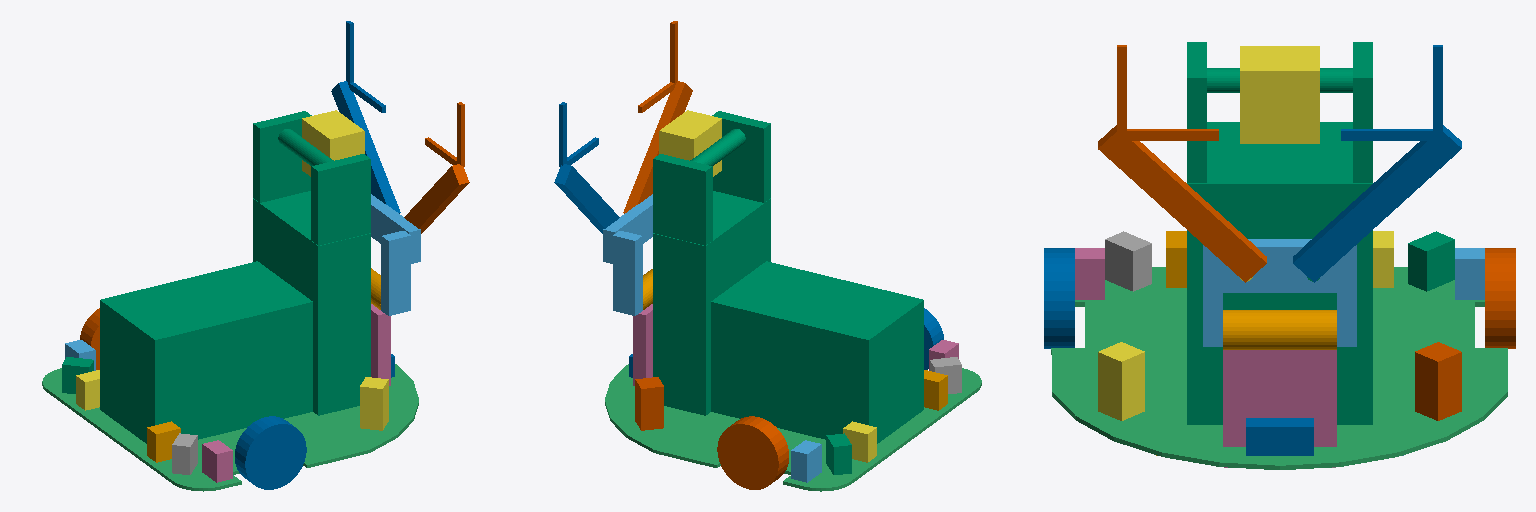
--- Render facts (derived) ---
3 views of the same robot in one strip: view 1: azimuth 30°, elevation 25°; view 2: azimuth 150°, elevation 25°; view 3: azimuth 270°, elevation 25° (orthographic).
Robot: pibot — 30 links, 29 joints (29 fixed); root link base_with_casters; default pose: all joints at 0.
Links seen in each view (by area): view 1: brainbox_with_battery, base_with_casters, right_wheel, grabber_mount, grabber_arm_left, grabber_arm_right, pi_camera, front_right_45deg_ir, grabber_to_base_1, rear_right_90deg_ir, rear_right_straight_ir, rear_right_45deg_ir (+4 smaller); view 2: brainbox_with_battery, base_with_casters, left_wheel, grabber_mount, grabber_arm_right, grabber_arm_left, pi_camera, front_left_45deg_ir, grabber_to_base_1, rear_left_90deg_ir, rear_left_straight_ir, rear_left_45deg_ir (+4 smaller); view 3: base_with_casters, brainbox_with_battery, grabber_to_base_1, grabber_arm_right, grabber_arm_left, pi_camera, grabber_mount, grabber_pole, front_right_45deg_ir, front_left_45deg_ir, left_wheel, right_wheel (+8 smaller).
Link boxes in pixels (x1,y1,x2,y2): brainbox_with_battery: (100, 111, 370, 443); base_with_casters: (42, 364, 418, 491); right_wheel: (235, 416, 306, 489); grabber_mount: (371, 194, 420, 315); grabber_arm_left: (331, 21, 400, 213); grabber_arm_right: (404, 102, 469, 233); pi_camera: (302, 110, 364, 176); front_right_45deg_ir: (360, 377, 388, 430); grabber_to_base_1: (371, 304, 390, 385); rear_right_90deg_ir: (202, 440, 232, 482); rear_right_straight_ir: (147, 421, 180, 462); rear_right_45deg_ir: (172, 433, 197, 474); brainbox_with_battery: (653, 111, 923, 443); base_with_casters: (605, 364, 981, 491); left_wheel: (717, 416, 788, 489); grabber_mount: (603, 194, 652, 315); grabber_arm_right: (623, 21, 692, 213); grabber_arm_left: (554, 102, 619, 233); pi_camera: (659, 110, 721, 176); front_left_45deg_ir: (635, 377, 663, 430); grabber_to_base_1: (633, 304, 652, 385); rear_left_90deg_ir: (791, 440, 821, 482); rear_left_straight_ir: (843, 421, 876, 462); rear_left_45deg_ir: (826, 433, 851, 474); base_with_casters: (1051, 267, 1507, 469); brainbox_with_battery: (1187, 42, 1372, 424); grabber_to_base_1: (1223, 350, 1336, 446); grabber_arm_right: (1098, 45, 1266, 282); grabber_arm_left: (1293, 45, 1461, 282); pi_camera: (1240, 46, 1319, 143); grabber_mount: (1203, 239, 1356, 346); grabber_pole: (1223, 310, 1336, 349); front_right_45deg_ir: (1098, 342, 1144, 420); front_left_45deg_ir: (1415, 342, 1461, 420); left_wheel: (1485, 248, 1515, 348); right_wheel: (1044, 248, 1074, 348).
Bounding box of the posed robot: 0.1451 × 0.14 × 0.1461 m (x, y, z).
1 mesh visuals loaded from 1 distinct referenced files (1 Collada DAE).

URDF robot description (pibot):
<?xml version="1.0" encoding="utf-8"?>
<!-- =================================================================================== -->
<!-- |    This document was autogenerated by xacro from [local-path]/catkin_ws/src/pibot_description/models/iti0201_robot_static/urdf/generate_pibot.urdf.xacro | -->
<!-- |    EDITING THIS FILE BY HAND IS NOT RECOMMENDED                                 | -->
<!-- =================================================================================== -->
<robot name="pibot" xmlns:xacro="http://www.ros.org/wiki/xacro">
  <gazebo>
    <plugin filename="libgazebo_ros_imu.so" name="imu_plugin">
      <alwaysOn>true</alwaysOn>
      <bodyName>base_with_casters</bodyName>
      <topicName>/robot/imu/raw</topicName>
      <gaussianNoise>0.0</gaussianNoise>
      <updateRate>10.0</updateRate>
    </plugin>
  </gazebo>
  <link name="base_with_casters">
    <inertial>
      <mass value="5"/>
      <inertia ixx="0.0061259375" ixy="0.0" ixz="0.0" iyy="0.0061259375" iyz="0.0" izz="0.01225"/>
    </inertial>
    <visual name="base_visual">
      <origin rpy="0 0 -1.57" xyz="-0.0615 0.098 0.005"/>
      <geometry>
        <mesh filename="model://iti0201_robot/meshes/pibot2_base.dae"/>
        <!--cylinder length="0.0015" radius="0.07"/-->
      </geometry>
    </visual>
    <collision name="base_collision">
      <origin rpy="0 0 -1.57" xyz="-0.0615 0.098 0.005"/>
      <geometry>
        <mesh filename="model://iti0201_robot/meshes/pibot2_base.dae"/>
        <!--cylinder length="0.0015" radius="0.07"/-->
      </geometry>
    </collision>
    <visual name="front_caster_visual">
      <origin rpy="0 0 0" xyz="0.04 0 0.005"/>
      <geometry>
        <sphere radius="0.005"/>
      </geometry>
    </visual>
    <collision name="front_caster_collision">
      <origin rpy="0 0 0" xyz="0.04 0 0.005"/>
      <geometry>
        <sphere radius="0.005"/>
      </geometry>
    </collision>
  </link>
  <gazebo reference="base_with_casters">
    <surface>
      <friction>
        <ode>
          <mu>0</mu>
          <mu2>0</mu2>
          <slip1>1.0</slip1>
          <slip2>1.0</slip2>
        </ode>
      </friction>
    </surface>
  </gazebo>
  <link name="wheel_joint">
    <inertial>
      <mass value="0.001"/>
      <inertia ixx="1.66666666667e-10" ixy="0.0" ixz="0.0" iyy="1.66666666667e-10" iyz="0.0" izz="1.66666666667e-10"/>
    </inertial>
    <visual name="joint_visual">
      <geometry>
        <box size="0.001 0.001 0.001"/>
      </geometry>
    </visual>
  </link>
  <joint name="Wheel_joint_to_base" type="fixed">
    <origin rpy="0 0 0" xyz="0 0 0.015"/>
    <child link="wheel_joint"/>
    <parent link="base_with_casters"/>
  </joint>
  <link name="brainbox_with_battery">
    <inertial>
      <mass value="0.001"/>
      <inertia ixx="8.83333333333e-07" ixy="0.0" ixz="0.0" iyy="8.59083333333e-07" iyz="0.0" izz="3.92416666667e-07"/>
    </inertial>
    <visual name="brainbox_visual">
      <origin rpy="0 0 0" xyz="-0.022 0 0.0294"/>
      <geometry>
        <box size="0.077 0.0468 0.0512"/>
      </geometry>
    </visual>
    <visual name="camera_stand_visual">
      <origin rpy="0 0 0" xyz="0.0294 0 0.043"/>
      <geometry>
        <box size="0.0255 0.0553 0.07896"/>
      </geometry>
    </visual>
    <visual name="camera_stand_right_wall_visual">
      <origin rpy="0 0 0" xyz="0.0294 -0.02467 0.1"/>
      <geometry>
        <box size="0.0255 0.006 0.0346"/>
      </geometry>
    </visual>
    <visual name="camera_stand_left_wall_visual">
      <origin rpy="0 0 0" xyz="0.0294 0.02467 0.1"/>
      <geometry>
        <box size="0.0255 0.006 0.0346"/>
      </geometry>
    </visual>
  </link>
  <joint name="brainbox_to_base" type="fixed">
    <origin rpy="0 0 0" xyz="0.0285 0 0.003"/>
    <child link="brainbox_with_battery"/>
    <parent link="base_with_casters"/>
  </joint>
  <link name="front_right_45deg_ir">
    <inertial>
      <mass value="0.001"/>
      <inertia ixx="4.16666666667e-08" ixy="0.0" ixz="0.0" iyy="1.66666666667e-08" iyz="0.0" izz="4.16666666667e-08"/>
    </inertial>
    <collision name="front_right_45deg_ir_collision">
      <geometry>
        <box size="0.01 0.01 0.02"/>
      </geometry>
    </collision>
    <visual name="front_right_45deg_ir_visual">
      <geometry>
        <box size="0.01 0.01 0.02"/>
      </geometry>
    </visual>
  </link>
  <joint name="front_right_45deg_ir_to_base" type="fixed">
    <origin rpy="0 0 -0.78535" xyz="0.0611 -0.0471 0.016"/>
    <child link="front_right_45deg_ir"/>
    <parent link="base_with_casters"/>
  </joint>
  <gazebo reference="front_right_45deg_ir">
    <sensor name="ir" type="ray">
      <ray>
        <scan>
          <horizontal>
            <samples>100</samples>
            <resolution>1</resolution>
          </horizontal>
        </scan>
        <range>
          <min>0.05</min>
          <max>2.00</max>
          <resolution>0.01</resolution>
        </range>
      </ray>
      <always_on>1</always_on>
      <update_rate>10</update_rate>
      <visualize>false</visualize>
      <plugin filename="libir_plugin.so" name="ir_plugin">
        <topic>ir/front_right</topic>
      </plugin>
    </sensor>
  </gazebo>
  <link name="front_middle_ir">
    <inertial>
      <mass value="0.001"/>
      <inertia ixx="1.66666666667e-08" ixy="0.0" ixz="0.0" iyy="4.16666666667e-08" iyz="0.0" izz="4.16666666667e-08"/>
    </inertial>
    <collision name="front_middle_ir_collision">
      <geometry>
        <box size="0.01 0.02 0.01"/>
      </geometry>
    </collision>
    <visual name="front_middle_ir_visual">
      <geometry>
        <box size="0.01 0.02 0.01"/>
      </geometry>
    </visual>
  </link>
  <joint name="front_middle_ir_to_base" type="fixed">
    <origin rpy="0 0 0" xyz="0.087812 0 0.011"/>
    <child link="front_middle_ir"/>
    <parent link="base_with_casters"/>
  </joint>
  <gazebo reference="front_middle_ir">
    <sensor name="ir" type="ray">
      <ray>
        <scan>
          <horizontal>
            <samples>100</samples>
            <resolution>1</resolution>
          </horizontal>
        </scan>
        <range>
          <min>0.05</min>
          <max>2.00</max>
          <resolution>0.01</resolution>
        </range>
      </ray>
      <always_on>1</always_on>
      <update_rate>10</update_rate>
      <visualize>false</visualize>
      <plugin filename="libir_plugin.so" name="ir_plugin">
        <topic>ir/front_middle</topic>
      </plugin>
    </sensor>
  </gazebo>
  <link name="front_left_45deg_ir">
    <inertial>
      <mass value="0.001"/>
      <inertia ixx="4.16666666667e-08" ixy="0.0" ixz="0.0" iyy="1.66666666667e-08" iyz="0.0" izz="4.16666666667e-08"/>
    </inertial>
    <collision name="front_left_45deg_ir_collisionl">
      <geometry>
        <box size="0.01 0.01 0.02"/>
      </geometry>
    </collision>
    <visual name="front_left_45deg_ir_visual">
      <geometry>
        <box size="0.01 0.01 0.02"/>
      </geometry>
    </visual>
  </link>
  <joint name="front_left_45deg_ir_to_base" type="fixed">
    <origin rpy="0 0 0.78535" xyz="0.0611151 0.0470558 0.016"/>
    <child link="front_left_45deg_ir"/>
    <parent link="base_with_casters"/>
  </joint>
  <gazebo reference="front_left_45deg_ir">
    <sensor name="ir" type="ray">
      <ray>
        <scan>
          <horizontal>
            <samples>100</samples>
            <resolution>1</resolution>
          </horizontal>
        </scan>
        <range>
          <min>0.05</min>
          <max>2.00</max>
          <resolution>0.01</resolution>
        </range>
      </ray>
      <always_on>1</always_on>
      <update_rate>10</update_rate>
      <visualize>false</visualize>
      <plugin filename="libir_plugin.so" name="ir_plugin">
        <topic>ir/front_left</topic>
      </plugin>
    </sensor>
  </gazebo>
  <link name="rear_right_90deg_ir">
    <inertial>
      <mass value="0.001"/>
      <inertia ixx="2.71875e-08" ixy="0.0" ixz="0.0" iyy="1.73333333333e-08" iyz="0.0" izz="2.05208333333e-08"/>
    </inertial>
    <collision name="collision">
      <geometry>
        <box size="0.012 0.008 0.0135"/>
      </geometry>
    </collision>
    <visual name="visual">
      <geometry>
        <box size="0.012 0.008 0.0135"/>
      </geometry>
    </visual>
  </link>
  <joint name="rear_right_90deg_ir_to_base" type="fixed">
    <origin rpy="0 0 -1.5707" xyz="-0.0215 -0.058 0.013"/>
    <child link="rear_right_90deg_ir"/>
    <parent link="base_with_casters"/>
  </joint>
  <gazebo reference="rear_right_90deg_ir">
    <sensor name="ir" type="ray">
      <ray>
        <scan>
          <horizontal>
            <samples>100</samples>
            <resolution>1</resolution>
          </horizontal>
        </scan>
        <range>
          <min>0.01</min>
          <max>0.40</max>
          <resolution>0.01</resolution>
        </range>
      </ray>
      <always_on>1</always_on>
      <update_rate>10</update_rate>
      <visualize>false</visualize>
      <plugin filename="libir_plugin.so" name="ir_plugin">
        <topic>ir/rear_right_90</topic>
      </plugin>
    </sensor>
  </gazebo>
  <link name="rear_right_45deg_ir">
    <inertial>
      <mass value="0.001"/>
      <inertia ixx="2.71875e-08" ixy="0.0" ixz="0.0" iyy="1.73333333333e-08" iyz="0.0" izz="2.05208333333e-08"/>
    </inertial>
    <collision name="collision">
      <geometry>
        <box size="0.012 0.008 0.0135"/>
      </geometry>
    </collision>
    <visual name="visual">
      <geometry>
        <box size="0.012 0.008 0.0135"/>
      </geometry>
    </visual>
  </link>
  <joint name="rear_right_45deg_ir_to_base" type="fixed">
    <origin rpy="0 0 -2.35605" xyz="-0.03 -0.045 0.013"/>
    <child link="rear_right_45deg_ir"/>
    <parent link="base_with_casters"/>
  </joint>
  <gazebo reference="rear_right_45deg_ir">
    <sensor name="ir" type="ray">
      <ray>
        <scan>
          <horizontal>
            <samples>100</samples>
            <resolution>1</resolution>
          </horizontal>
        </scan>
        <range>
          <min>0.01</min>
          <max>0.40</max>
          <resolution>0.01</resolution>
        </range>
      </ray>
      <always_on>1</always_on>
      <update_rate>10</update_rate>
      <visualize>false</visualize>
      <plugin filename="libir_plugin.so" name="ir_plugin">
        <topic>ir/rear_right_45</topic>
      </plugin>
    </sensor>
  </gazebo>
  <link name="rear_right_straight_ir">
    <inertial>
      <mass value="0.001"/>
      <inertia ixx="2.71875e-08" ixy="0.0" ixz="0.0" iyy="1.73333333333e-08" iyz="0.0" izz="2.05208333333e-08"/>
    </inertial>
    <collision name="collision">
      <geometry>
        <box size="0.012 0.008 0.0135"/>
      </geometry>
    </collision>
    <visual name="visual">
      <geometry>
        <box size="0.012 0.008 0.0135"/>
      </geometry>
    </visual>
  </link>
  <joint name="rear_right_straight_ir_to_base" type="fixed">
    <origin rpy="0 0 -3.14" xyz="-0.0315 -0.03 0.013"/>
    <child link="rear_right_straight_ir"/>
    <parent link="base_with_casters"/>
  </joint>
  <gazebo reference="rear_right_straight_ir">
    <sensor name="ir" type="ray">
      <ray>
        <scan>
          <horizontal>
            <samples>100</samples>
            <resolution>1</resolution>
          </horizontal>
        </scan>
        <range>
          <min>0.01</min>
          <max>0.40</max>
          <resolution>0.01</resolution>
        </range>
      </ray>
      <always_on>1</always_on>
      <update_rate>10</update_rate>
      <visualize>false</visualize>
      <plugin filename="libir_plugin.so" name="ir_plugin">
        <topic>ir/rear_right_0</topic>
      </plugin>
    </sensor>
  </gazebo>
  <link name="rear_left_90deg_ir">
    <inertial>
      <mass value="0.001"/>
      <inertia ixx="2.71875e-08" ixy="0.0" ixz="0.0" iyy="1.73333333333e-08" iyz="0.0" izz="2.05208333333e-08"/>
    </inertial>
    <collision name="collision">
      <geometry>
        <box size="0.012 0.008 0.0135"/>
      </geometry>
    </collision>
    <visual name="visual">
      <geometry>
        <box size="0.012 0.008 0.0135"/>
      </geometry>
    </visual>
  </link>
  <joint name="rear_left_90deg_ir_to_base" type="fixed">
    <origin rpy="0 0 1.5707" xyz="-0.0215 0.058 0.013"/>
    <child link="rear_left_90deg_ir"/>
    <parent link="base_with_casters"/>
  </joint>
  <gazebo reference="rear_left_90deg_ir">
    <sensor name="ir" type="ray">
      <ray>
        <scan>
          <horizontal>
            <samples>100</samples>
            <resolution>1</resolution>
          </horizontal>
        </scan>
        <range>
          <min>0.01</min>
          <max>0.40</max>
          <resolution>0.01</resolution>
        </range>
      </ray>
      <always_on>1</always_on>
      <update_rate>10</update_rate>
      <visualize>false</visualize>
      <plugin filename="libir_plugin.so" name="ir_plugin">
        <topic>ir/rear_left_90</topic>
      </plugin>
    </sensor>
  </gazebo>
  <link name="rear_left_45deg_ir">
    <inertial>
      <mass value="0.001"/>
      <inertia ixx="2.71875e-08" ixy="0.0" ixz="0.0" iyy="1.73333333333e-08" iyz="0.0" izz="2.05208333333e-08"/>
    </inertial>
    <collision name="collision">
      <geometry>
        <box size="0.012 0.008 0.0135"/>
      </geometry>
    </collision>
    <visual name="visual">
      <geometry>
        <box size="0.012 0.008 0.0135"/>
      </geometry>
    </visual>
  </link>
  <joint name="rear_left_45deg_ir_to_base" type="fixed">
    <origin rpy="0 0 2.35605" xyz="-0.03 0.045 0.013"/>
    <child link="rear_left_45deg_ir"/>
    <parent link="base_with_casters"/>
  </joint>
  <gazebo reference="rear_left_45deg_ir">
    <sensor name="ir" type="ray">
      <ray>
        <scan>
          <horizontal>
            <samples>100</samples>
            <resolution>1</resolution>
          </horizontal>
        </scan>
        <range>
          <min>0.01</min>
          <max>0.40</max>
          <resolution>0.01</resolution>
        </range>
      </ray>
      <always_on>1</always_on>
      <update_rate>10</update_rate>
      <visualize>false</visualize>
      <plugin filename="libir_plugin.so" name="ir_plugin">
        <topic>ir/rear_left_45</topic>
      </plugin>
    </sensor>
  </gazebo>
  <link name="rear_left_straight_ir">
    <inertial>
      <mass value="0.001"/>
      <inertia ixx="2.71875e-08" ixy="0.0" ixz="0.0" iyy="1.73333333333e-08" iyz="0.0" izz="2.05208333333e-08"/>
    </inertial>
    <collision name="collision">
      <geometry>
        <box size="0.012 0.008 0.0135"/>
      </geometry>
    </collision>
    <visual name="visual">
      <geometry>
        <box size="0.012 0.008 0.0135"/>
      </geometry>
    </visual>
  </link>
  <joint name="rear_left_straight_ir_to_base" type="fixed">
    <origin rpy="0 0 3.14" xyz="-0.0315 0.03 0.013"/>
    <child link="rear_left_straight_ir"/>
    <parent link="base_with_casters"/>
  </joint>
  <gazebo reference="rear_left_straight_ir">
    <sensor name="ir" type="ray">
      <pose>0 0 0 0 -0 1.571</pose>
      <ray>
        <scan>
          <horizontal>
            <samples>100</samples>
            <resolution>1</resolution>
          </horizontal>
        </scan>
        <range>
          <min>0.01</min>
          <max>0.40</max>
          <resolution>0.01</resolution>
        </range>
      </ray>
      <always_on>1</always_on>
      <update_rate>10</update_rate>
      <visualize>false</visualize>
      <plugin filename="libir_plugin.so" name="ir_plugin">
        <topic>ir/rear_left_0</topic>
      </plugin>
    </sensor>
  </gazebo>
  <link name="right_side_first_line_sensor_from_middle">
    <inertial>
      <mass value="0.001"/>
      <inertia ixx="1.54166666667e-09" ixy="0.0" ixz="0.0" iyy="1.20833333333e-09" iyz="0.0" izz="7.08333333333e-10"/>
    </inertial>
    <collision name="collision">
      <geometry>
        <box size="0.0015 0.0035 0.0025"/>
      </geometry>
    </collision>
    <visual name="visual">
      <geometry>
        <box size="0.0015 0.0035 0.0025"/>
      </geometry>
    </visual>
  </link>
  <joint name="right_side_first_line_sensor_from_middle_to_base" type="fixed">
    <origin rpy="0 1.5707 0" xyz="0.0935 -0.005 0.0044"/>
    <child link="right_side_first_line_sensor_from_middle"/>
    <parent link="base_with_casters"/>
  </joint>
  <gazebo reference="right_side_first_line_sensor_from_middle">
    <sensor name="line_sensor_camera1" type="camera">
      <update_rate>10</update_rate>
      <camera name="head">
        <horizontal_fov>0.4</horizontal_fov>
        <image>
          <width>48</width>
          <height>48</height>
          <format>L8</format>
        </image>
        <clip>
          <near>0.001</near>
          <far>0.031</far>
        </clip>
      </camera>
      <always_on>1</always_on>
      <update_rate>10</update_rate>
      <visualize>false</visualize>
      <plugin filename="libgazebo_ros_camera.so" name="camera_controller">
        <alwaysOn>true</alwaysOn>
        <updateRate>10</updateRate>
        <cameraName>/robot/line_sensor/right_first</cameraName>
        <imageTopicName>image_raw</imageTopicName>
        <cameraInfoTopicName>camera_info</cameraInfoTopicName>
        <frameName>camera_link</frameName>
        <hackBaseline>0.07</hackBaseline>
        <distortionK1>0.0</distortionK1>
        <distortionK2>0.0</distortionK2>
        <distortionK3>0.0</distortionK3>
        <distortionT1>0.0</distortionT1>
        <distortionT2>0.0</distortionT2>
      </plugin>
    </sensor>
  </gazebo>
  <link name="left_side_first_line_sensor_from_middle">
    <inertial>
      <mass value="0.001"/>
      <inertia ixx="1.54166666667e-09" ixy="0.0" ixz="0.0" iyy="1.20833333333e-09" iyz="0.0" izz="7.08333333333e-10"/>
    </inertial>
    <collision name="collision">
      <geometry>
        <box size="0.0015 0.0035 0.0025"/>
      </geometry>
    </collision>
    <visual name="visual">
      <geometry>
        <box size="0.0015 0.0035 0.0025"/>
      </geometry>
    </visual>
  </link>
  <joint name="left_side_first_line_sensor_from_middle_to_base" type="fixed">
    <origin rpy="0 1.5707 0" xyz="0.0935 0.005 0.0044"/>
    <child link="left_side_first_line_sensor_from_middle"/>
    <parent link="base_with_casters"/>
  </joint>
  <gazebo reference="left_side_first_line_sensor_from_middle">
    <sensor name="line_sensor_camera2" type="camera">
      <update_rate>10</update_rate>
      <pose>0 0 0 0 1.571 0</pose>
      <camera name="head">
        <horizontal_fov>0.4</horizontal_fov>
        <image>
          <width>48</width>
          <height>48</height>
          <format>L8</format>
        </image>
        <clip>
          <near>0.001</near>
          <far>0.031</far>
        </clip>
      </camera>
      <always_on>1</always_on>
      <update_rate>10</update_rate>
      <visualize>false</visualize>
      <plugin filename="libgazebo_ros_camera.so" name="camera_controller">
        <alwaysOn>true</alwaysOn>
        <updateRate>10</updateRate>
        <cameraName>/robot/line_sensor/left_first</cameraName>
        <imageTopicName>image_raw</imageTopicName>
        <cameraInfoTopicName>camera_info</cameraInfoTopicName>
        <frameName>camera_link</frameName>
        <hackBaseline>0.07</hackBaseline>
        <distortionK1>0.0</distortionK1>
        <distortionK2>0.0</distortionK2>
        <distortionK3>0.0</distortionK3>
        <distortionT1>0.0</distortionT1>
        <distortionT2>0.0</distortionT2>
      </plugin>
    </sensor>
  </gazebo>
  <link name="right_side_second_line_sensor_from_middle">
    <inertial>
      <mass value="0.001"/>
      <inertia ixx="1.54166666667e-09" ixy="0.0" ixz="0.0" iyy="1.20833333333e-09" iyz="0.0" izz="7.08333333333e-10"/>
    </inertial>
    <collision name="collision">
      <geometry>
        <box size="0.0015 0.0035 0.0025"/>
      </geometry>
    </collision>
    <visual name="visual">
      <geometry>
        <box size="0.0015 0.0035 0.0025"/>
      </geometry>
    </visual>
  </link>
  <joint name="right_side_second_line_sensor_from_middle_to_base" type="fixed">
    <origin rpy="0 1.5707 0" xyz="0.0935 -0.015 0.0044"/>
    <child link="right_side_second_line_sensor_from_middle"/>
    <parent link="base_with_casters"/>
  </joint>
  <gazebo reference="right_side_second_line_sensor_from_middle">
    <sensor name="line_sensor_camera3" type="camera">
      <update_rate>10</update_rate>
      <pose>0 0 0 0 1.571 0</pose>
      <camera name="head">
        <horizontal_fov>0.4</horizontal_fov>
        <image>
          <width>48</width>
          <height>48</height>
          <format>L8</format>
        </image>
        <clip>
          <near>0.001</near>
          <far>0.031</far>
        </clip>
      </camera>
      <always_on>1</always_on>
      <update_rate>10</update_rate>
      <visualize>false</visualize>
      <plugin filename="libgazebo_ros_camera.so" name="camera_controller">
        <alwaysOn>true</alwaysOn>
        <updateRate>10</updateRate>
        <cameraName>/robot/line_sensor/right_second</cameraName>
        <imageTopicName>image_raw</imageTopicName>
        <cameraInfoTopicName>camera_info</cameraInfoTopicName>
        <frameName>camera_link</frameName>
        <hackBaseline>0.07</hackBaseline>
        <distortionK1>0.0</distortionK1>
        <distortionK2>0.0</distortionK2>
        <distortionK3>0.0</distortionK3>
        <distortionT1>0.0</distortionT1>
        <distortionT2>0.0</distortionT2>
      </plugin>
    </sensor>
  </gazebo>
  <link name="left_side_second_line_sensor_from_middle">
    <inertial>
      <mass value="0.001"/>
      <inertia ixx="1.54166666667e-09" ixy="0.0" ixz="0.0" iyy="1.20833333333e-09" iyz="0.0" izz="7.08333333333e-10"/>
    </inertial>
    <collision name="collision">
      <geometry>
        <box size="0.0015 0.0035 0.0025"/>
      </geometry>
    </collision>
    <visual name="visual">
      <geometry>
        <box size="0.0015 0.0035 0.0025"/>
      </geometry>
    </visual>
  </link>
  <joint name="left_side_second_line_sensor_from_middle_to_base" type="fixed">
    <origin rpy="0 1.5707 0" xyz="0.0935 0.015 0.0044"/>
    <child link="left_side_second_line_sensor_from_middle"/>
    <parent link="base_with_casters"/>
  </joint>
  <gazebo reference="left_side_second_line_sensor_from_middle">
    <sensor name="line_sensor_camera4" type="camera">
      <update_rate>10</update_rate>
      <pose>0 0 0 0 1.571 0</pose>
      <camera name="head">
        <horizontal_fov>0.4</horizontal_fov>
        <image>
          <width>48</width>
          <height>48</height>
          <format>L8</format>
        </image>
        <clip>
          <near>0.001</near>
          <far>0.031</far>
        </clip>
      </camera>
      <always_on>1</always_on>
      <update_rate>10</update_rate>
      <visualize>false</visualize>
      <plugin filename="libgazebo_ros_camera.so" name="camera_controller">
        <alwaysOn>true</alwaysOn>
        <updateRate>10</updateRate>
        <cameraName>/robot/line_sensor/left_second</cameraName>
        <imageTopicName>image_raw</imageTopicName>
        <cameraInfoTopicName>camera_info</cameraInfoTopicName>
        <frameName>camera_link</frameName>
        <hackBaseline>0.07</hackBaseline>
        <distortionK1>0.0</distortionK1>
        <distortionK2>0.0</distortionK2>
        <distortionK3>0.0</distortionK3>
        <distortionT1>0.0</distortionT1>
        <distortionT2>0.0</distortionT2>
      </plugin>
    </sensor>
  </gazebo>
  <link name="right_side_third_line_sensor_from_middle">
    <inertial>
      <mass value="0.001"/>
      <inertia ixx="1.54166666667e-09" ixy="0.0" ixz="0.0" iyy="1.20833333333e-09" iyz="0.0" izz="7.08333333333e-10"/>
    </inertial>
    <collision name="collision">
      <geometry>
        <box size="0.0015 0.0035 0.0025"/>
      </geometry>
    </collision>
    <visual name="visual">
      <geometry>
        <box size="0.0015 0.0035 0.0025"/>
      </geometry>
    </visual>
  </link>
  <joint name="right_side_third_line_sensor_from_middle_to_base" type="fixed">
    <origin rpy="0 1.5707 0" xyz="0.0855 -0.035 0.0044"/>
    <child link="right_side_third_line_sensor_from_middle"/>
    <parent link="base_with_casters"/>
  </joint>
  <gazebo reference="right_side_third_line_sensor_from_middle">
    <sensor name="line_sensor_camera5" type="camera">
      <update_rate>10</update_rate>
      <pose>0 0 0 0 1.571 0</pose>
      <camera name="head">
        <horizontal_fov>0.4</horizontal_fov>
        <image>
          <width>48</width>
          <height>48</height>
          <format>L8</format>
        </image>
        <clip>
          <near>0.001</near>
          <far>0.031</far>
        </clip>
      </camera>
      <always_on>1</always_on>
      <update_rate>10</update_rate>
      <visualize>false</visualize>
      <plugin filename="libgazebo_ros_camera.so" name="camera_controller">
        <alwaysOn>true</alwaysOn>
        <updateRate>10</updateRate>
        <cameraName>/robot/line_sensor/right_third</cameraName>
        <imageTopicName>image_raw</imageTopicName>
        <cameraInfoTopicName>camera_info</cameraInfoTopicName>
        <frameName>camera_link</frameName>
        <hackBaseline>0.07</hackBaseline>
        <distortionK1>0.0</distortionK1>
        <distortionK2>0.0</distortionK2>
        <distortionK3>0.0</distortionK3>
        <distortionT1>0.0</distortionT1>
        <distortionT2>0.0</distortionT2>
      </plugin>
    </sensor>
  </gazebo>
  <link name="left_side_third_line_sensor_from_middle">
    <inertial>
      <mass value="0.001"/>
      <inertia ixx="1.54166666667e-09" ixy="0.0" ixz="0.0" iyy="1.20833333333e-09" iyz="0.0" izz="7.08333333333e-10"/>
    </inertial>
    <collision name="collision">
      <geometry>
        <box size="0.0015 0.0035 0.0025"/>
      </geometry>
    </collision>
    <visual name="visual">
      <geometry>
        <box size="0.0015 0.0035 0.0025"/>
      </geometry>
    </visual>
  </link>
  <joint name="left_side_third_line_sensor_from_middle_to_base" type="fixed">
    <origin rpy="0 1.5707 0" xyz="0.0855 0.035 0.0044"/>
    <child link="left_side_third_line_sensor_from_middle"/>
    <parent link="base_with_casters"/>
  </joint>
  <gazebo reference="left_side_third_line_sensor_from_middle">
    <sensor name="line_sensor_camera6" type="camera">
      <update_rate>10</update_rate>
      <pose>0 0 0 0 1.571 0</pose>
      <camera name="head">
        <horizontal_fov>0.4</horizontal_fov>
        <image>
          <width>48</width>
          <height>48</height>
          <format>L8</format>
        </image>
        <clip>
          <near>0.001</near>
          <far>0.031</far>
        </clip>
      </camera>
      <always_on>1</always_on>
      <update_rate>10</update_rate>
      <visualize>false</visualize>
      <plugin filename="libgazebo_ros_camera.so" name="camera_controller">
        <alwaysOn>true</alwaysOn>
        <updateRate>10</updateRate>
        <cameraName>/robot/line_sensor/left_third</cameraName>
        <imageTopicName>image_raw</imageTopicName>
        <cameraInfoTopicName>camera_info</cameraInfoTopicName>
        <frameName>camera_link</frameName>
        <hackBaseline>0.07</hackBaseline>
        <distortionK1>0.0</distortionK1>
        <distortionK2>0.0</distortionK2>
        <distortionK3>0.0</distortionK3>
        <distortionT1>0.0</distortionT1>
        <distortionT2>0.0</distortionT2>
      </plugin>
    </sensor>
  </gazebo>
  <link name="camera_stand_pole">
    <inertial>
      <mass value="0.001"/>
      <inertia ixx="1.60253073501e-07" ixy="0.0" ixz="0.0" iyy="1.60253073501e-07" iyz="0.0" izz="7.303842e-09"/>
    </inertial>
    <collision name="collision">
      <geometry>
        <cylinder length="0.0433499" radius="0.003822"/>
      </geometry>
    </collision>
    <visual name="visual">
      <geometry>
        <cylinder length="0.0433499" radius="0.003822"/>
      </geometry>
    </visual>
  </link>
  <joint name="camera_stand_pole_to_base" type="fixed">
    <origin rpy="0 1.5707 1.5707" xyz="0.05790475 0 0.1135341"/>
    <child link="camera_stand_pole"/>
    <parent link="base_with_casters"/>
  </joint>
  <!--REVOLUTE CAMERA???, uncomment this and delete the above
    <joint type="revolute" name="camera_stand_pole_to_base">
      <pose>0 0 0 0 0 0</pose>
      <child>camera_stand_pole</child>
      <parent>base</parent>
      <axis>
        <xyz>0 1 0</xyz>
      </axis>
    </joint>
    -->
  <link name="pi_camera">
    <inertial>
      <mass value="0.001"/>
      <inertia ixx="7.20833333333e-08" ixy="0.0" ixz="0.0" iyy="7.20833333333e-08" iyz="0.0" izz="9.6e-08"/>
    </inertial>
    <collision name="collision">
      <geometry>
        <box size="0.017 0.024 0.024"/>
      </geometry>
    </collision>
    <visual name="visual">
      <geometry>
        <box size="0.017 0.024 0.024"/>
      </geometry>
    </visual>
  </link>
  <joint name="pi_camera_to_pole" type="fixed">
    <origin rpy="0 0 -1.5707" xyz="0 -0.0104 0"/>
    <child link="pi_camera"/>
    <parent link="camera_stand_pole"/>
  </joint>
  <gazebo reference="pi_camera">
    <sensor name="camera" type="camera">
      <update_rate>10</update_rate>
      <always_on>1</always_on>
      <visualize>false</visualize>
      <camera name="head">
        <horizontal_fov>1.3962634</horizontal_fov>
        <image>
          <width>800</width>
          <height>800</height>
          <format>R8G8B8</format>
        </image>
        <clip>
          <near>0.02</near>
          <far>300</far>
        </clip>
      </camera>
      <plugin filename="libgazebo_ros_camera.so" name="camera_controller">
        <alwaysOn>true</alwaysOn>
        <updateRate>10</updateRate>
        <cameraName>robot/camera</cameraName>
        <imageTopicName>image_raw</imageTopicName>
        <cameraInfoTopicName>camera_info</cameraInfoTopicName>
        <frameName>camera_link</frameName>
        <hackBaseline>0.07</hackBaseline>
        <distortionK1>0.0</distortionK1>
        <distortionK2>0.0</distortionK2>
        <distortionK3>0.0</distortionK3>
        <distortionT1>0.0</distortionT1>
        <distortionT2>0.0</distortionT2>
      </plugin>
    </sensor>
  </gazebo>
  <link name="right_wheel">
    <inertial>
      <mass value="1"/>
      <inertia ixx="6.3e-05" ixy="0.0" ixz="0.0" iyy="6.3e-05" iyz="0.0" izz="0.0001125"/>
    </inertial>
    <visual name="right_wheel_visual">
      <origin rpy="0 0 0" xyz="0 0 0"/>
      <geometry>
        <cylinder length="0.009" radius="0.015"/>
      </geometry>
    </visual>
    <collision name="right_wheel_collision">
      <origin rpy="0 0 0" xyz="0 0 0"/>
      <geometry>
        <cylinder length="0.009" radius="0.015"/>
      </geometry>
    </collision>
  </link>
  <gazebo reference="right_wheel">
    <mu1 value="1.0"/>
    <mu2 value="1.0"/>
    <kp value="10000000.0"/>
    <kd value="1.0"/>
    <fdir1 value="1 0 0"/>
  </gazebo>
  <joint name="right_wheel_hinge" type="fixed">
    <origin rpy="0 1.5707 1.5707" xyz="0 -0.0655 0"/>
    <child link="right_wheel"/>
    <parent link="wheel_joint"/>
    <!--proovisin erinevaid väärtusi siia "limit" alla, midagi ei muutunud -->
    <limit effort="10.0" velocity="1.0"/>
    <axis rpy="0 0 0" xyz="0 0 1"/>
  </joint>
  <link name="left_wheel">
    <inertial>
      <mass value="1"/>
      <inertia ixx="6.3e-05" ixy="0.0" ixz="0.0" iyy="6.3e-05" iyz="0.0" izz="0.0001125"/>
    </inertial>
    <visual name="left_wheel_visual">
      <origin rpy="0 0 0" xyz="0 0 0"/>
      <geometry>
        <cylinder length="0.009" radius="0.015"/>
      </geometry>
    </visual>
    <collision name="left_wheel_collision">
      <origin rpy="0 0 0" xyz="0 0 0"/>
      <geometry>
        <cylinder length="0.009" radius="0.015"/>
      </geometry>
    </collision>
  </link>
  <gazebo reference="left_wheel">
    <mu1 value="1.0"/>
    <mu2 value="1.0"/>
    <kp value="10000000.0"/>
    <kd value="1.0"/>
    <fdir1 value="1 0 0"/>
  </gazebo>
  <joint name="left_wheel_hinge" type="fixed">
    <origin rpy="0 1.5707 1.5707" xyz="0 0.0655 0"/>
    <child link="left_wheel"/>
    <parent link="wheel_joint"/>
    <limit effort="10.0" velocity="1.0"/>
    <axis rpy="0 0 0" xyz="0 0 1"/>
  </joint>
  <link name="grabber_to_base_1">
    <inertial>
      <mass value="0.001"/>
      <inertia ixx="0.0000337" ixy="0.0" ixz="0.0" iyy="0.0000493" iyz="0.0" izz="0.0000248"/>
    </inertial>
    <collision name="arm_to_base_col">
      <geometry>
        <box size=".006 .034 .03455"/>
      </geometry>
    </collision>
    <visual name="arm_to_base_vis">
      <geometry>
        <box size=".006 .034 .03455"/>
      </geometry>
    </visual>
  </link>
  <joint name="grabber_to_base_joint_1" type="fixed">
    <origin rpy="0 0 0" xyz="0.0835 0 0.0235"/>
    <dynamics damping="1"/>
    <child link="grabber_to_base_1"/>
    <parent link="base_with_casters"/>
  </joint>
  <link name="pole_rotation_reference">
    <inertial>
      <mass value="0.001"/>
      <inertia ixx="0.0000337" ixy="0.0" ixz="0.0" iyy="0.0000493" iyz="0.0" izz="0.0000248"/>
    </inertial>
    <collision name="pole_rotation_reference_col">
      <geometry>
        <box size=".001 .001 .001"/>
      </geometry>
    </collision>
    <visual name="pole_rotation_reference_vis">
      <geometry>
        <box size=".001 .001 .001"/>
      </geometry>
    </visual>
  </link>
  <joint name="pole_rotation_reference_to_base" type="fixed">
    <origin rpy="0 1.5707 1.5707" xyz="0.0875 0 0.04555"/>
    <dynamics damping="1"/>
    <child link="pole_rotation_reference"/>
    <parent link="base_with_casters"/>
  </joint>
  <link name="grabber_pole">
    <inertial>
      <mass value="0.001"/>
      <inertia ixx="0.0000337" ixy="0.0" ixz="0.0" iyy="0.0000493" iyz="0.0" izz="0.0000248"/>
    </inertial>
    <collision name="the_pole_col">
      <geometry>
        <cylinder length=".034" radius=".006"/>
      </geometry>
    </collision>
    <visual name="the_pole_vis">
      <geometry>
        <cylinder length=".034" radius=".006"/>
      </geometry>
    </visual>
  </link>
  <!-- TODO -->
  <joint name="grabber_pole" type="fixed">
    <origin rpy="0 0 0" xyz="0 0 0"/>
    <child link="grabber_pole"/>
    <dynamics damping="1"/>
    <parent link="pole_rotation_reference"/>
    <limit effort="10.0" lower="0.0" upper="1.5" velocity="1.0"/>
    <axis xyz="0 0 1"/>
  </joint>
  <link name="grabber_mount">
    <collision name="arm_collision_left">
      <origin rpy="0 0 0" xyz="0.0144 0.02 0"/>
      <geometry>
        <box size=".035 .006 .011"/>
      </geometry>
    </collision>
    <visual name="arm_visual_left">
      <origin rpy="0 0 0" xyz="0.0144 0.02 0"/>
      <geometry>
        <box size=".035 .006 .011"/>
      </geometry>
    </visual>
    <collision name="arm_collision_right">
      <origin rpy="0 0 0" xyz="0.0144 -0.02 0"/>
      <geometry>
        <box size=".035 .006 .011"/>
      </geometry>
    </collision>
    <visual name="arm_visual_right">
      <origin rpy="0 0 0" xyz="0.0144 -0.02 0"/>
      <geometry>
        <box size=".035 .006 .011"/>
      </geometry>
    </visual>
    <collision name="collision_under">
      <origin rpy="0 0 0" xyz="0.025 0 -0.00855"/>
      <geometry>
        <box size=".015 .042 .0057"/>
      </geometry>
    </collision>
    <visual name="visual_under">
      <origin rpy="0 0 0" xyz="0.025 0 -0.00855"/>
      <geometry>
        <box size=".015 .042 .0057"/>
      </geometry>
    </visual>
    <inertial>
      <mass value="0.001"/>
      <inertia ixx="0.0000337" ixy="0.0" ixz="0.0" iyy="0.0000493" iyz="0.0" izz="0.0000248"/>
    </inertial>
  </link>
  <joint name="grabber_mount_to_pole" type="fixed">
    <origin rpy="1.5707 0 3.1414" xyz="0 0 0"/>
    <dynamics damping="1"/>
    <child link="grabber_mount"/>
    <parent link="grabber_pole"/>
  </joint>
  <link name="grabber_left_arm_joint">
    <collision name="collision_for_left_arm_joint">
      <geometry>
        <cylinder length=".004" radius=".002"/>
      </geometry>
    </collision>
    <visual name="visual_for_left_arm_joint">
      <geometry>
        <cylinder length=".004" radius=".002"/>
      </geometry>
    </visual>
    <inertial>
      <mass value="0.001"/>
      <inertia ixx="0.0000337" ixy="0.0" ixz="0.0" iyy="0.0000493" iyz="0.0" izz="0.0000248"/>
    </inertial>
  </link>
  <!-- TODO -->
  <joint name="grabber_left_arm_joint_to_grabber_mount" type="fixed">
    <origin rpy="0 3.1414 0" xyz="0.025 0.01 -0.01355"/>
    <child link="grabber_left_arm_joint"/>
    <parent link="grabber_mount"/>
    <dynamics damping="1"/>
    <limit effort="10.0" lower="0.0" upper="0.7" velocity="1.0"/>
    <axis xyz="0 0 1"/>
  </joint>
  <link name="grabber_right_arm_joint">
    <collision name="collision_for_right_arm_joint">
      <geometry>
        <cylinder length=".004" radius=".002"/>
      </geometry>
    </collision>
    <visual name="visual_for_right_arm_joint">
      <geometry>
        <cylinder length=".004" radius=".002"/>
      </geometry>
    </visual>
    <inertial>
      <mass value="0.001"/>
      <inertia ixx="0.0000337" ixy="0.0" ixz="0.0" iyy="0.0000493" iyz="0.0" izz="0.0000248"/>
    </inertial>
  </link>
  <!-- TODO -->
  <joint name="grabber_right_arm_joint_to_grabber_mount" type="fixed">
    <origin rpy="0 3.1414 0" xyz="0.025 -0.01 -0.01355"/>
    <child link="grabber_right_arm_joint"/>
    <parent link="grabber_mount"/>
    <dynamics damping="1"/>
    <limit effort="10.0" lower="0.0" upper="-0.7" velocity="1.0"/>
    <axis xyz="0 0 1"/>
  </joint>
  <link name="grabber_arm_left">
    <collision name="main_arm_collision_l">
      <origin rpy="0 0 0.78535" xyz="0.023 0.019 0"/>
      <geometry>
        <box size=".06213 .009 .005"/>
      </geometry>
    </collision>
    <visual name="main_arm_visual_l">
      <origin rpy="0 0 0.78535" xyz="0.023 0.019 0"/>
      <geometry>
        <box size=".06213 .009 .005"/>
      </geometry>
    </visual>
    <collision name="small_arm_collision_l_f">
      <origin rpy="0 0 0" xyz="0.061 0.037 -0.0025"/>
      <geometry>
        <box size=".029 .003 .002"/>
      </geometry>
    </collision>
    <visual name="small_arm_visual_l_f">
      <origin rpy="0 0 0" xyz="0.061 0.037 -0.0025"/>
      <geometry>
        <box size=".029 .003 .002"/>
      </geometry>
    </visual>
    <collision name="small_arm_collision_l_b">
      <origin rpy="0 0 -1.5707" xyz="0.0465 0.0225 -0.0025"/>
      <geometry>
        <box size=".029 .003 .002"/>
      </geometry>
    </collision>
    <visual name="small_arm_visual_l_b">
      <origin rpy="0 0 -1.5707" xyz="0.0465 0.0225 -0.0025"/>
      <geometry>
        <box size=".029 .003 .002"/>
      </geometry>
    </visual>
    <inertial>
      <mass value="0.001"/>
      <inertia ixx="0.0000337" ixy="0.0" ixz="0.0" iyy="0.0000493" iyz="0.0" izz="0.0000248"/>
    </inertial>
  </link>
  <joint name="grabber_arm_left_to_grabber_joint" type="fixed">
    <origin rpy="0 3.1414 0" xyz="0 0 0"/>
    <child link="grabber_arm_left"/>
    <parent link="grabber_left_arm_joint"/>
    <dynamics damping="1"/>
  </joint>
  <link name="grabber_arm_right">
    <collision name="main_arm_collision_r">
      <origin rpy="0 0 -0.78535" xyz="0.023 -0.019 0"/>
      <geometry>
        <box size=".06213 .009 .005"/>
      </geometry>
    </collision>
    <visual name="main_arm_visual_r">
      <origin rpy="0 0 -0.78535" xyz="0.023 -0.019 0"/>
      <geometry>
        <box size=".06213 .009 .005"/>
      </geometry>
    </visual>
    <collision name="small_arm_collision_r_f">
      <origin rpy="0 0 0" xyz="0.061 -0.037 -0.0025"/>
      <geometry>
        <box size=".029 .003 .002"/>
      </geometry>
    </collision>
    <visual name="small_arm_visual_r_f">
      <origin rpy="0 0 0" xyz="0.061 -0.037 -0.0025"/>
      <geometry>
        <box size=".029 .003 .002"/>
      </geometry>
    </visual>
    <collision name="small_arm_collision_r_b">
      <origin rpy="0 0 -1.5707" xyz="0.0465 -0.0225 -0.0025"/>
      <geometry>
        <box size=".029 .003 .002"/>
      </geometry>
    </collision>
    <visual name="small_arm_visual_r_b">
      <origin rpy="0 0 -1.5707" xyz="0.0465 -0.0225 -0.0025"/>
      <geometry>
        <box size=".029 .003 .002"/>
      </geometry>
    </visual>
    <inertial>
      <mass value="0.001"/>
      <inertia ixx="0.0000337" ixy="0.0" ixz="0.0" iyy="0.0000493" iyz="0.0" izz="0.0000248"/>
    </inertial>
  </link>
  <joint name="grabber_arm_right_to_grabber_joint" type="fixed">
    <origin rpy="0 3.1414 0" xyz="0 0 0"/>
    <child link="grabber_arm_right"/>
    <parent link="grabber_right_arm_joint"/>
    <dynamics damping="1"/>
  </joint>
</robot>
